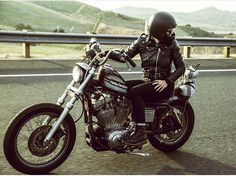helmet: (145, 11, 179, 41)
